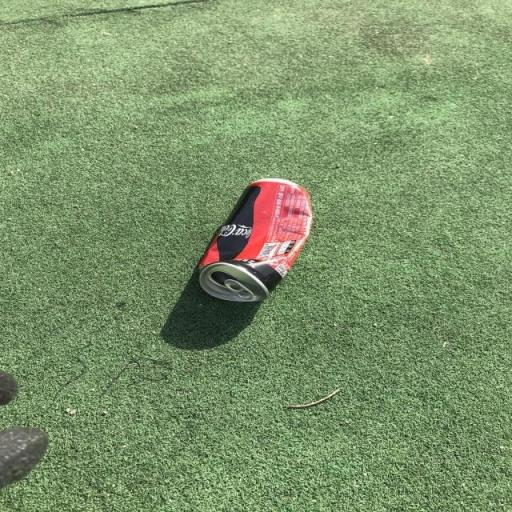metal: (160, 156, 321, 329)
